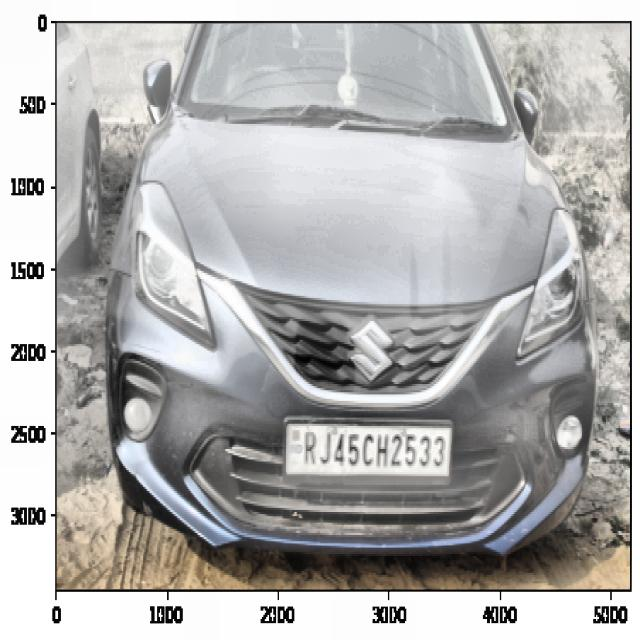license_plate: (295, 420, 449, 478)
